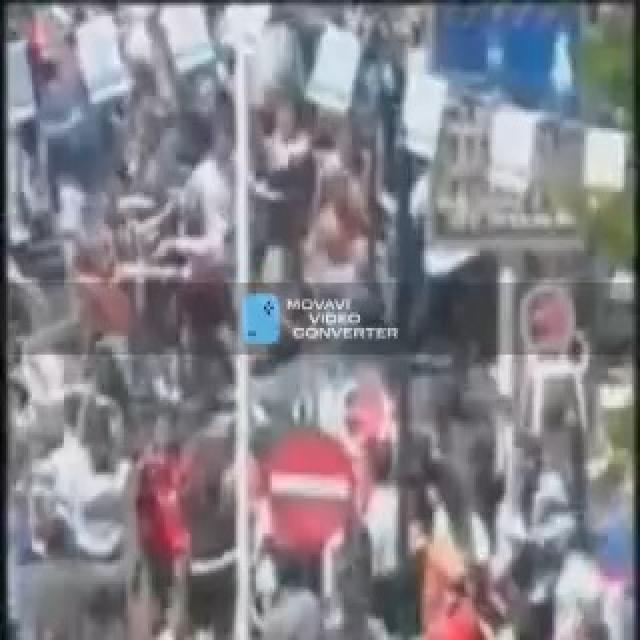non-voilence: (4, 0, 634, 637)
